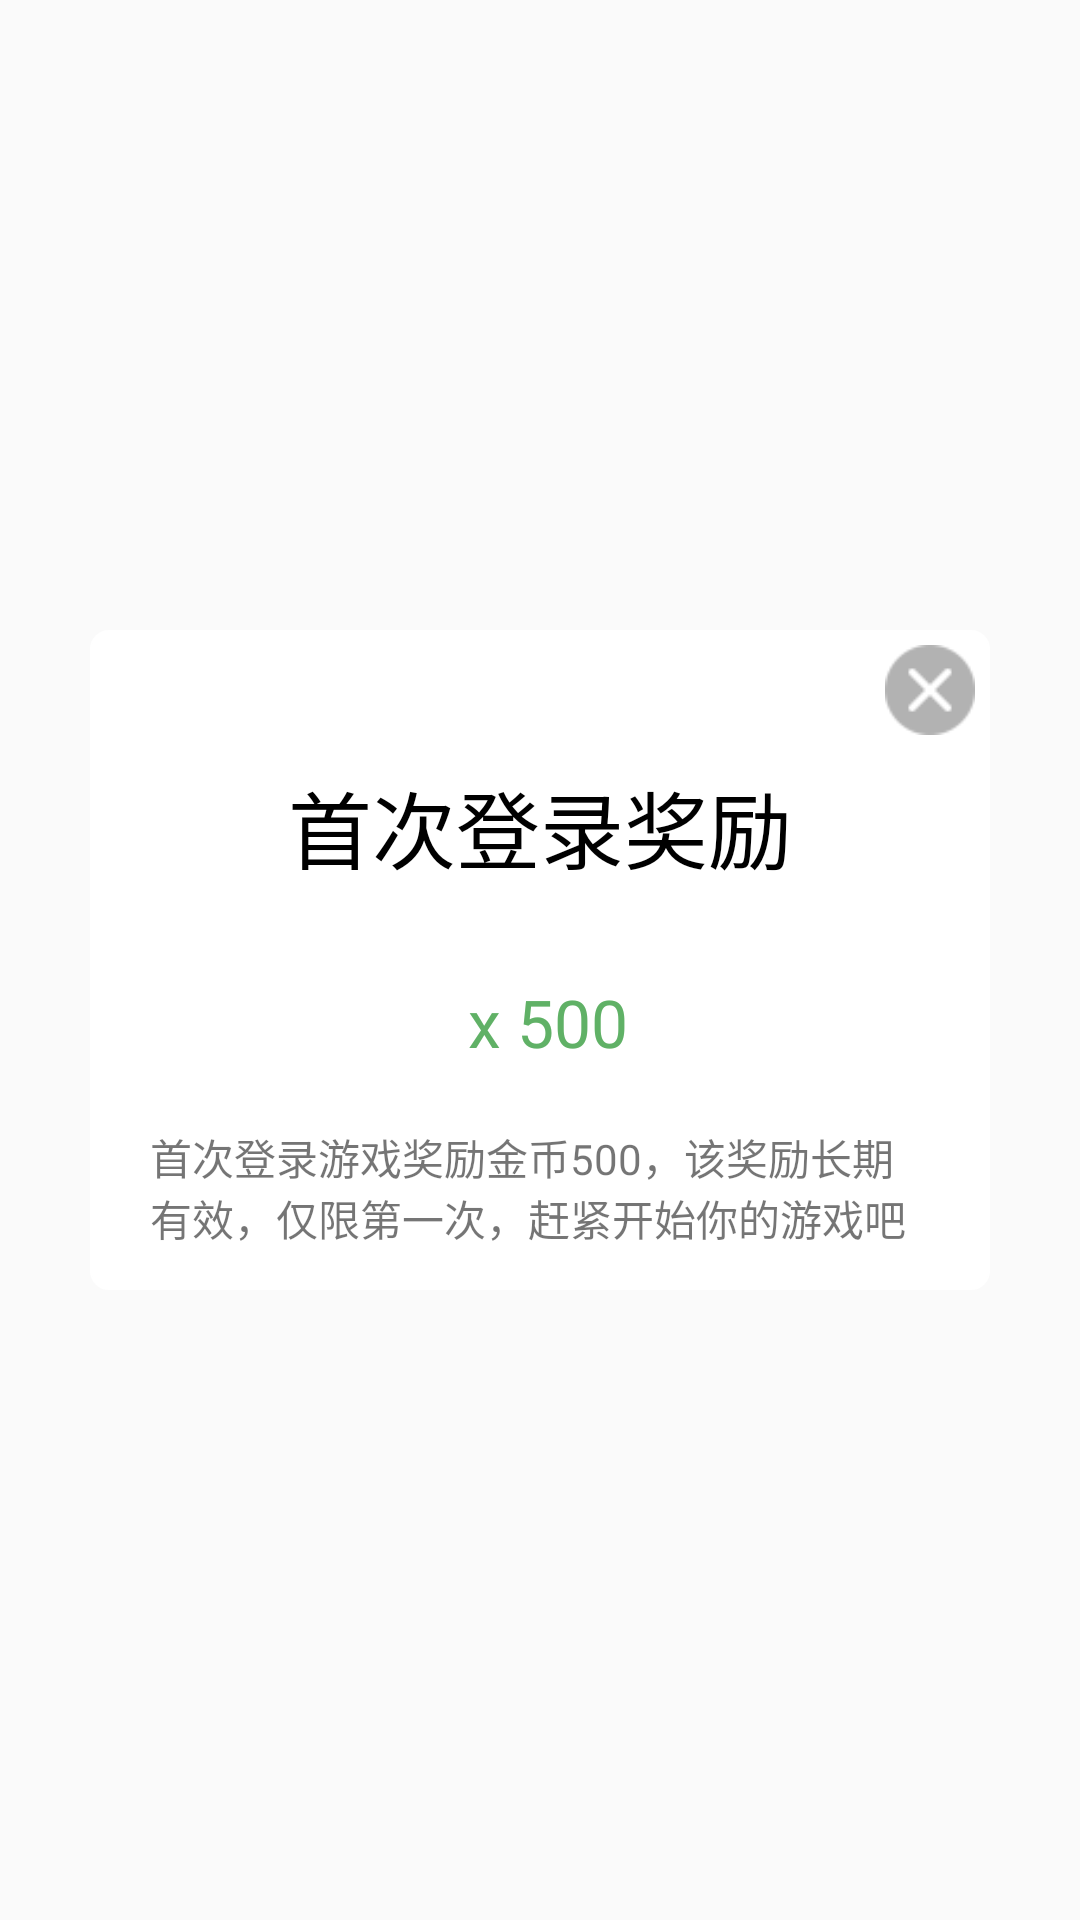

Icon bounding boxes for this 1080px×1920px phone screenshot, format (x1, y1, x2, y2):
delete: (885, 645, 975, 735)
